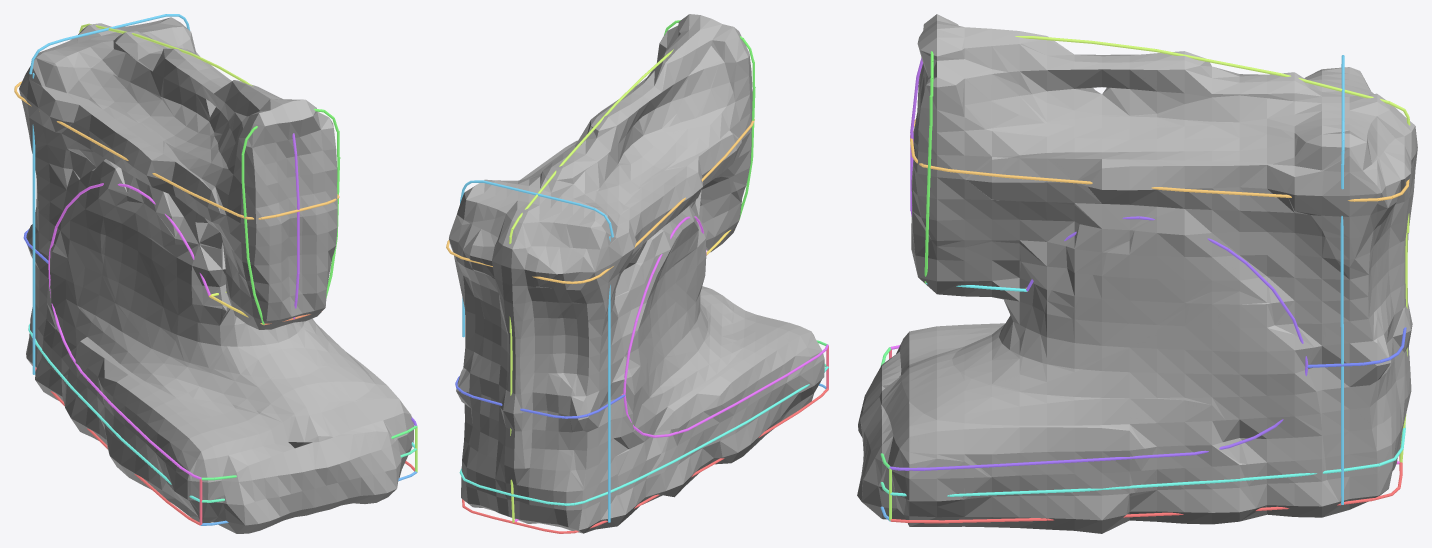
Rendered from t2f_sewing_machine.gltf.
3 renders of one model, left to right at view 1: azimuth 30°, elevation 25°; view 2: azimuth 150°, elevation 25°; view 3: azimuth 270°, elevation 25°, orthographic. The views are drawn at different scales.
Size of the model in its own units: 0.3901 by 0.6505 by 0.7277.
